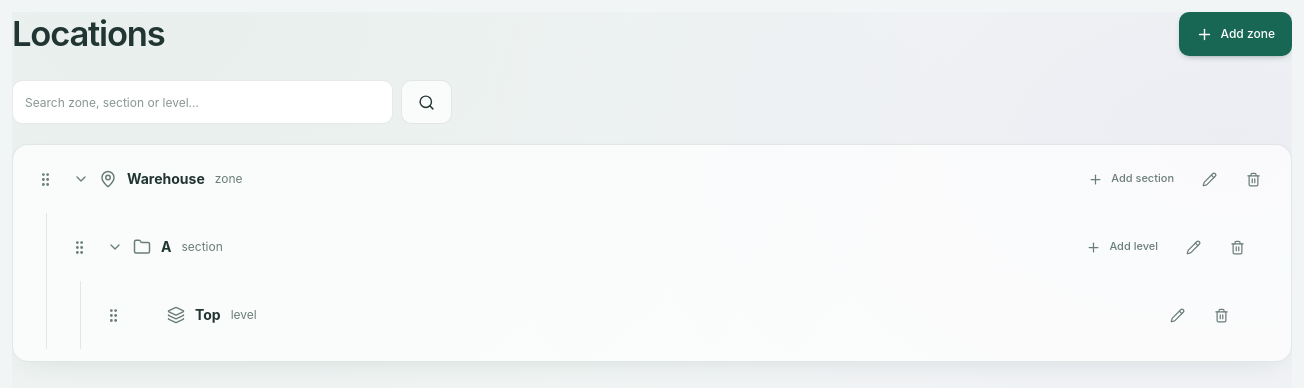
Test: nests levels in their section and zone, with collapsible branches
Click the button "A section".
click(202, 246)  # box [107,236,1061,258]
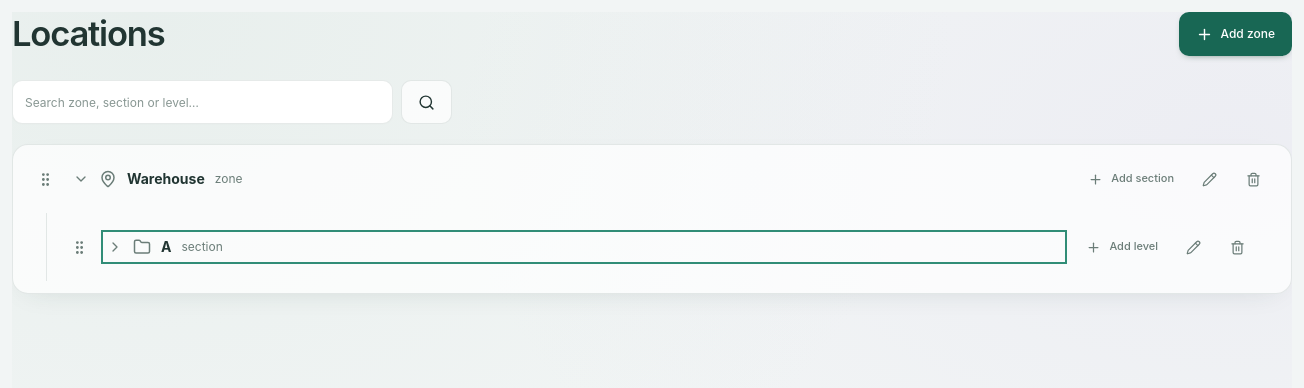
Now the text "Top" is gone
Now the button "A section" is collapsed, box [107,236,1061,258]
